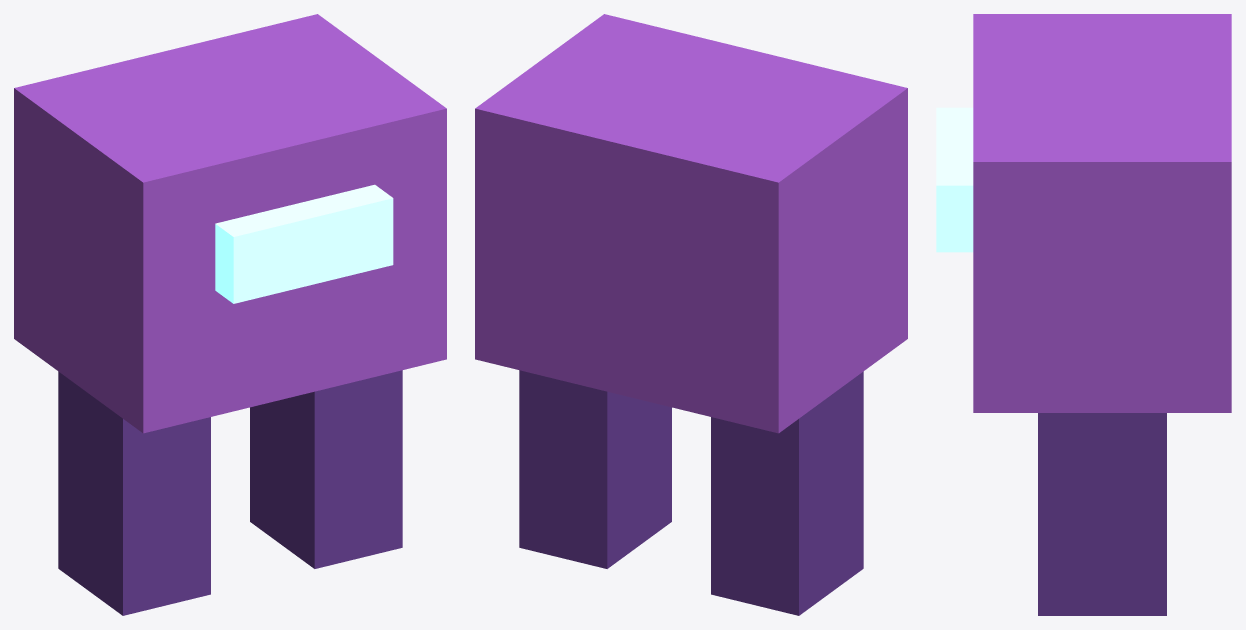
File: shielded.glb
3 views of the same model, side by side, from view 1: azimuth 30°, elevation 25°; view 2: azimuth 150°, elevation 25°; view 3: azimuth 270°, elevation 25° (orthographic).
Bounding box in the file's own units: 0.38 × 0.55 × 0.32.
